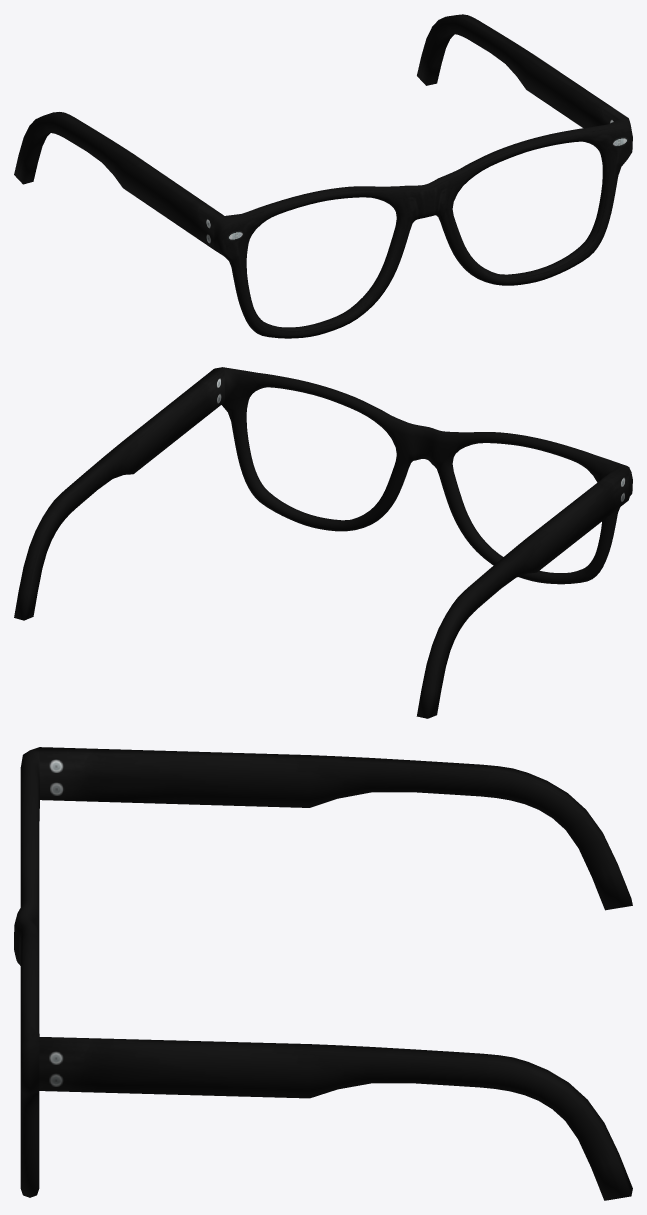
The model's file is qwe.glb.
3 views of the same model, one above another, from view 1: azimuth 30°, elevation 25°; view 2: azimuth 150°, elevation 25°; view 3: azimuth 270°, elevation 25° (orthographic). The views are drawn at different scales.
Visible parts, largest first — view 1: Glasses; view 2: Glasses; view 3: Glasses.
Boxes of the visible parts, <box> form: Glasses: <box>14,14,632,338</box>; Glasses: <box>14,367,632,718</box>; Glasses: <box>14,747,632,1200</box>.
Bounding box in the file's own units: 3.22 × 1.06 × 2.82.
1 material, 1 textured.
